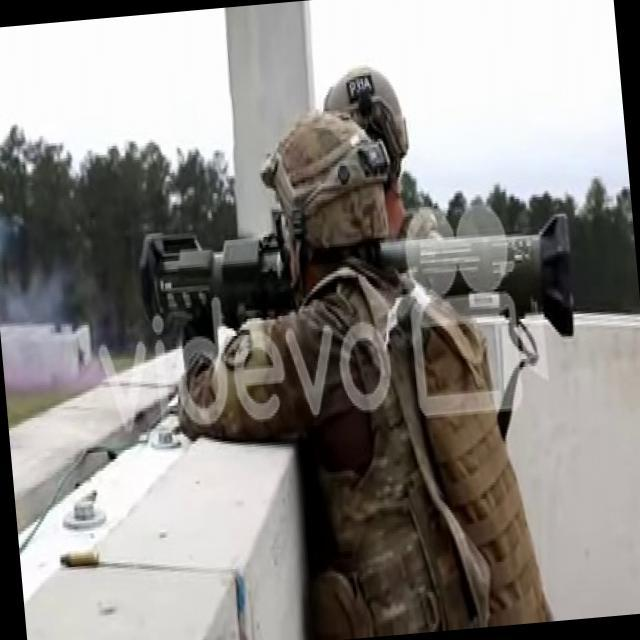rocket: (142, 190, 580, 381)
